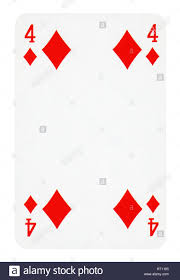four of diamonds: (15, 15, 166, 247)
